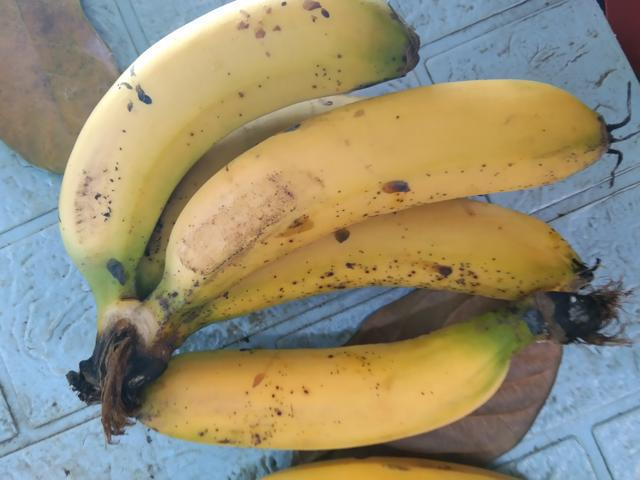ripe: (153, 72, 600, 356), (23, 0, 366, 293), (129, 323, 505, 479), (202, 212, 576, 354)
